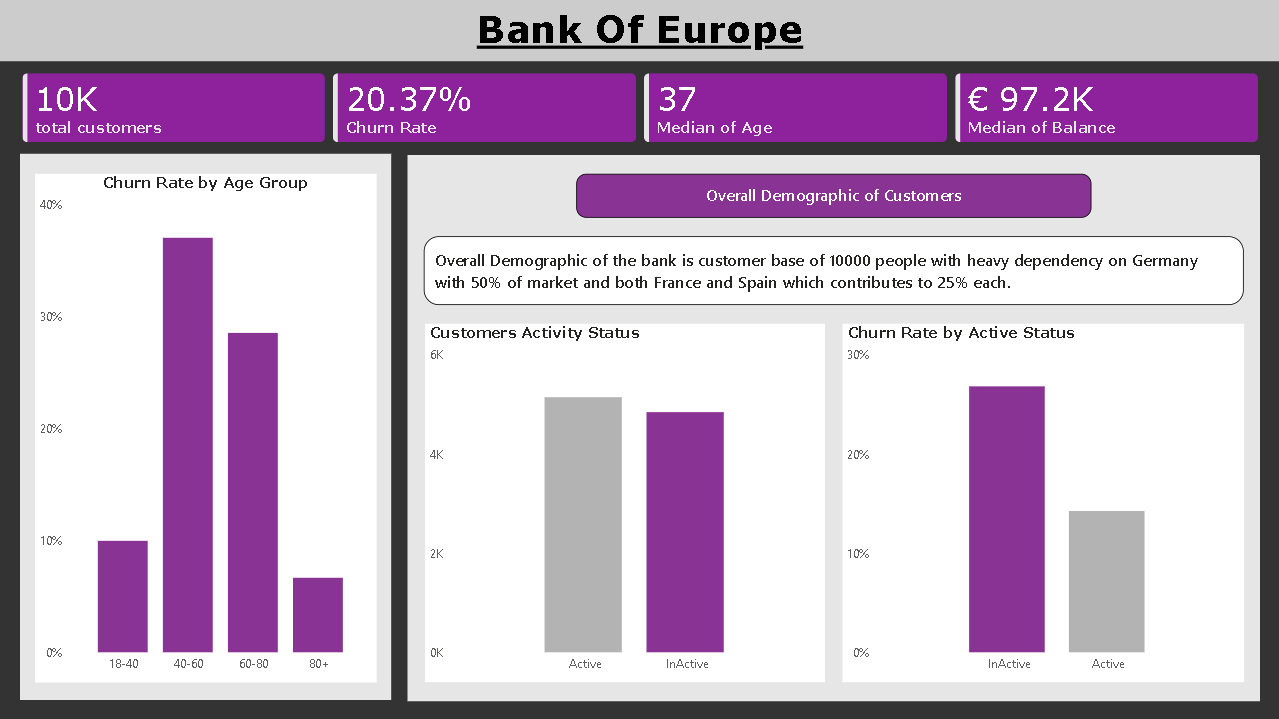

This screenshot's page, from the dashboard's own definition file:
{"tool":"powerbi","page":{"name":"Page 2","canvas":[1280,720],"ordinal":1},"visuals":[{"type":"shape","box":[0,0,1280,61.2],"z":0},{"type":"cardVisual","fields":{"Data":["Bank_Churn.total customers","Bank_Churn.churn rate","Median(Bank_Churn. Age)","Median(Bank_Churn. Balance  )"]},"box":[0,61.2,1280,93.8],"z":1000},{"type":"shape","box":[407.5,155,852.5,546.2],"z":2000},{"type":"textbox","box":[436.2,0,407.5,61.2],"z":3000},{"type":"shape","box":[20,153.8,371.2,546.2],"z":3500},{"type":"columnChart","title":"Churn Rate by Age Group","fields":{"Category":["Bank_Churn.Age Category"],"Y":["Bank_Churn.Churn Rate"]},"box":[35,173.8,341.2,508.8],"z":4000},{"type":"textbox","box":[423.8,236.2,820,68.8],"z":5000},{"type":"clusteredColumnChart","title":"Customers Activity Status","fields":{"Category":["Bank_Churn.Active Status"],"Y":["Bank_Churn.total customers"]},"box":[425,323.8,400,358.8],"z":6000},{"type":"textbox","box":[576.2,173.8,515,43.8],"z":7000},{"type":"clusteredColumnChart","fields":{"Category":["Bank_Churn.Active Status"],"Y":["Bank_Churn.Churn Rate"]},"box":[842.5,323.8,401.2,358.8],"z":8000}]}

Visuals, with their boxes in screenshot pixels (x1, y1, x2, y2), scaled from the page's 1280x720 canvas onto the 1279x719 screenshot:
shape: x1=0 y1=0 x2=1278 y2=61
cardVisual - Bank_Churn.total customers x Bank_Churn.churn rate: x1=0 y1=61 x2=1278 y2=155
shape: x1=407 y1=155 x2=1259 y2=700
textbox: x1=436 y1=0 x2=843 y2=61
shape: x1=20 y1=154 x2=391 y2=699
"Churn Rate by Age Group" columnChart: x1=35 y1=174 x2=376 y2=682
textbox: x1=423 y1=236 x2=1243 y2=305
"Customers Activity Status" clusteredColumnChart: x1=425 y1=323 x2=824 y2=682
textbox: x1=576 y1=174 x2=1090 y2=217
clusteredColumnChart - Bank_Churn.Active Status x Bank_Churn.Churn Rate: x1=842 y1=323 x2=1243 y2=682
